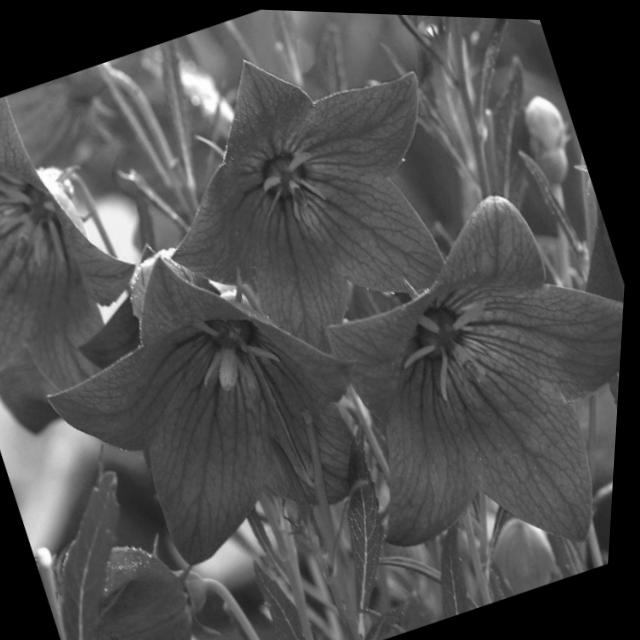Flower: (272, 149, 633, 608), (3, 208, 411, 604), (101, 3, 497, 371), (0, 80, 170, 427), (53, 507, 247, 640)
